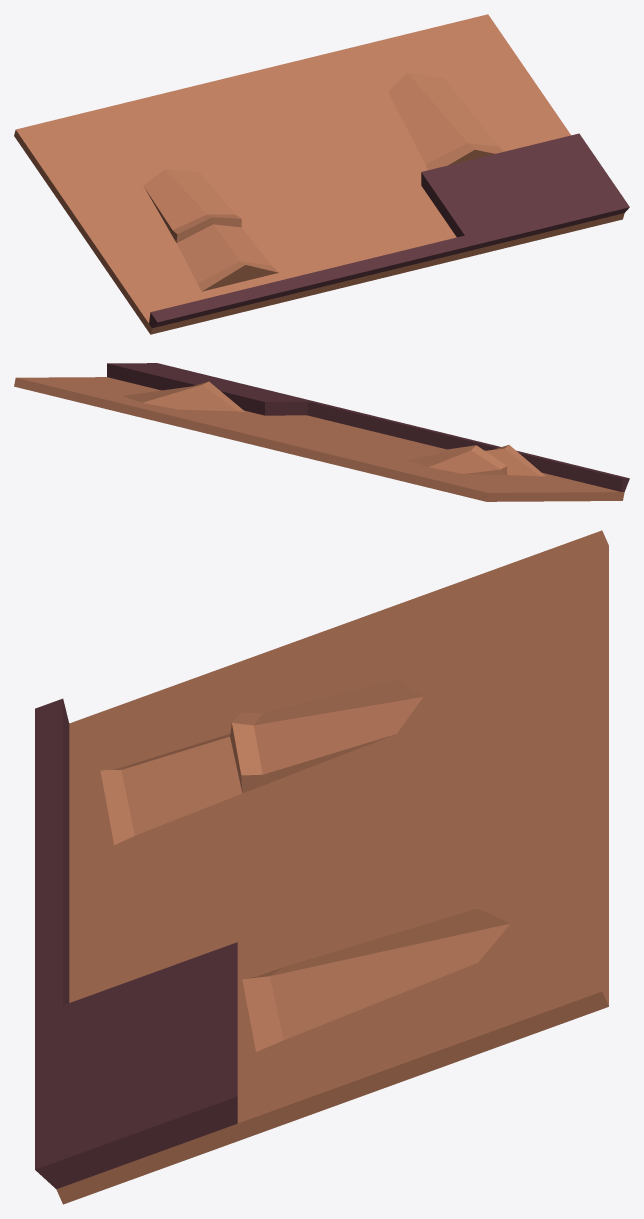
The model's file is empire-roof-acroterion-platform-r-small-3m-empire.glb.
3 views of the same model, one above another, from view 1: azimuth 30°, elevation 25°; view 2: azimuth 150°, elevation 25°; view 3: azimuth 270°, elevation 25° (orthographic). The views are drawn at different scales.
Visible parts, largest first — view 1: SM_Roof_Acroterion_Platform_R_Small_3m_Empire; view 2: SM_Roof_Acroterion_Platform_R_Small_3m_Empire; view 3: SM_Roof_Acroterion_Platform_R_Small_3m_Empire.
Boxes of the visible parts, x1,y1,x2,y2 form: SM_Roof_Acroterion_Platform_R_Small_3m_Empire: (14, 14, 629, 334); SM_Roof_Acroterion_Platform_R_Small_3m_Empire: (14, 363, 629, 501); SM_Roof_Acroterion_Platform_R_Small_3m_Empire: (35, 530, 608, 1204).
Bounding box in the file's own units: 3 × 0.6467 × 1.58.
